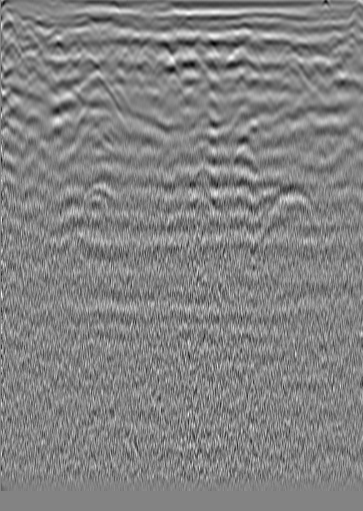가스: (58, 187, 90, 212)
상수: (315, 36, 335, 56)
오수: (16, 27, 36, 47)
우수: (201, 39, 221, 59)
